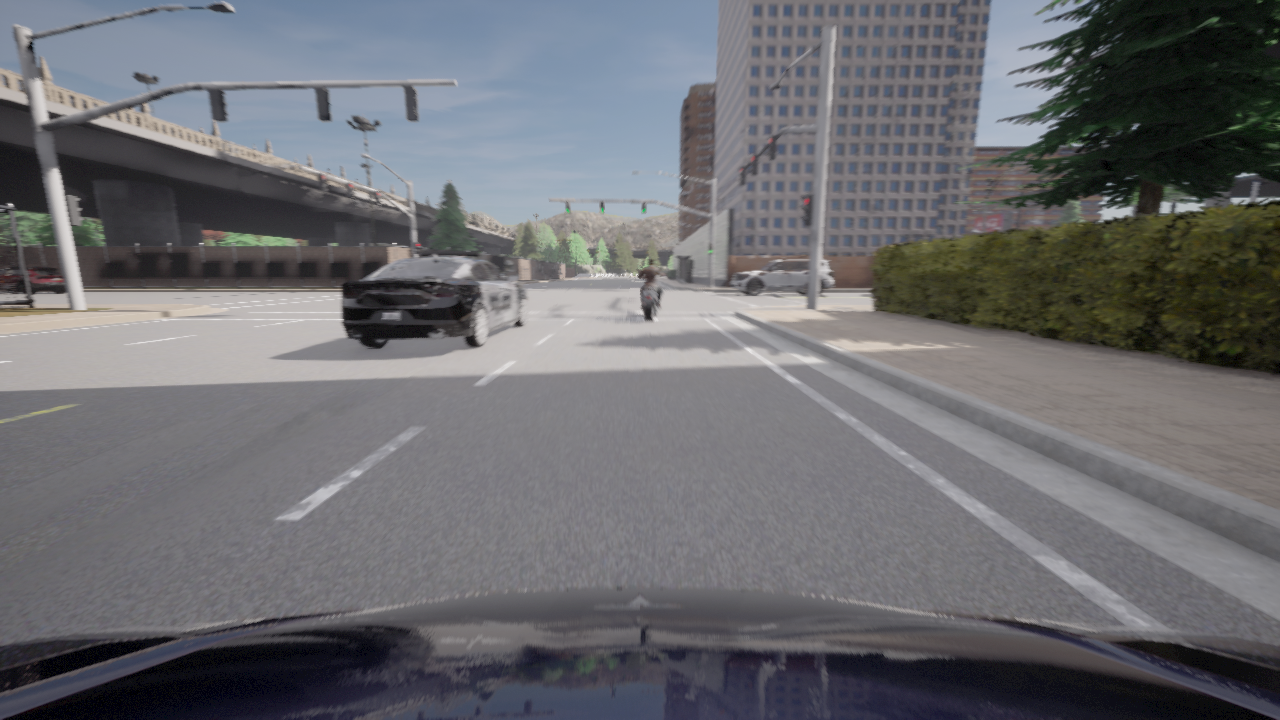cyclist: (0, 588, 1279, 719), (342, 250, 527, 347), (731, 259, 833, 296), (0, 267, 65, 293), (638, 270, 666, 320)
